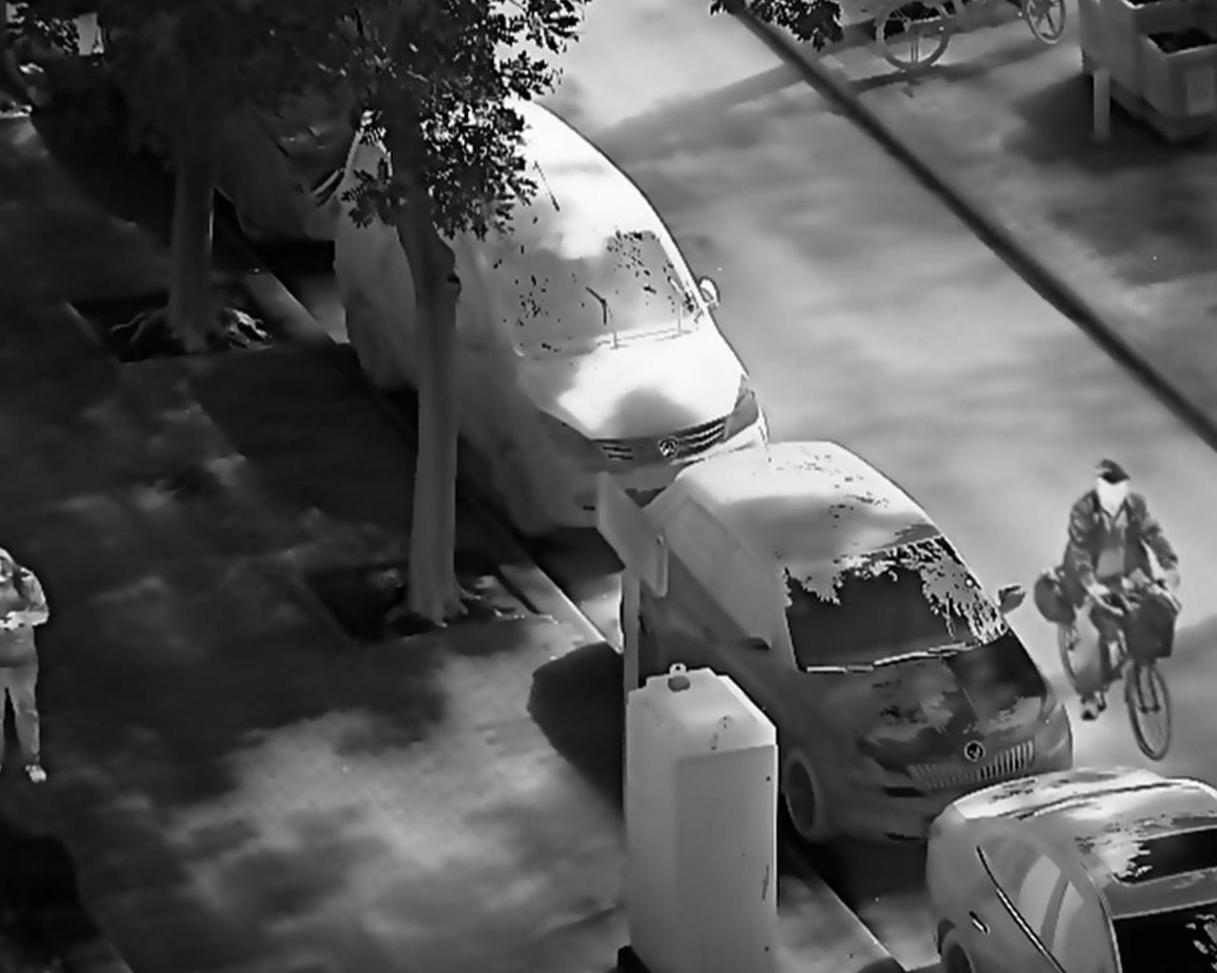person: (1062, 456, 1184, 727), (2, 542, 52, 786)
